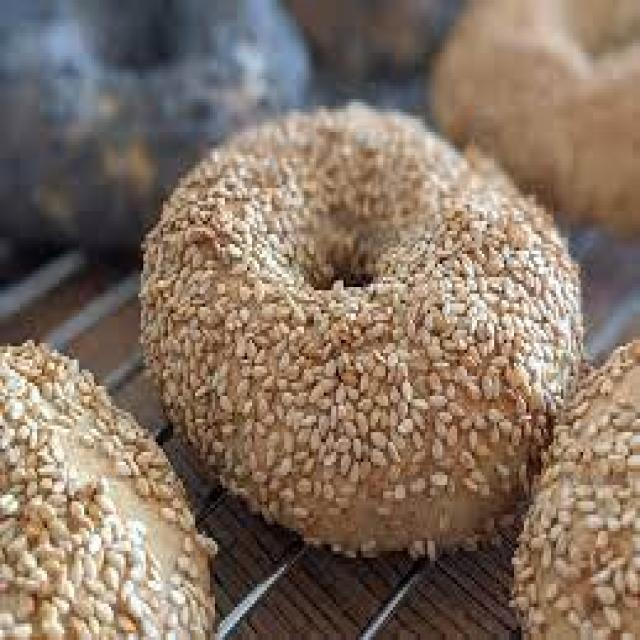Bagel: (140, 107, 583, 555), (0, 340, 215, 638), (434, 0, 640, 236), (513, 340, 640, 638)
